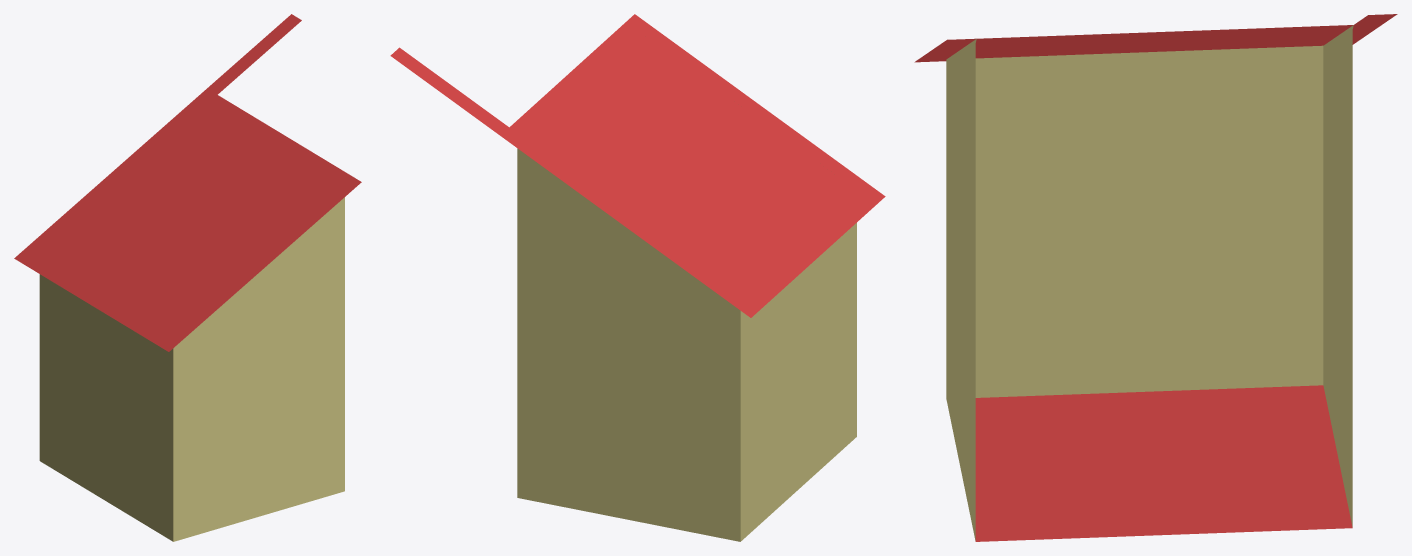
3 renders of one model, left to right at view 1: azimuth 30°, elevation 25°; view 2: azimuth 150°, elevation 25°; view 3: azimuth 270°, elevation 25°, orthographic. The views are drawn at different scales.
Bounding box in the file's own units: 9.2 × 8.1 × 10.87.
